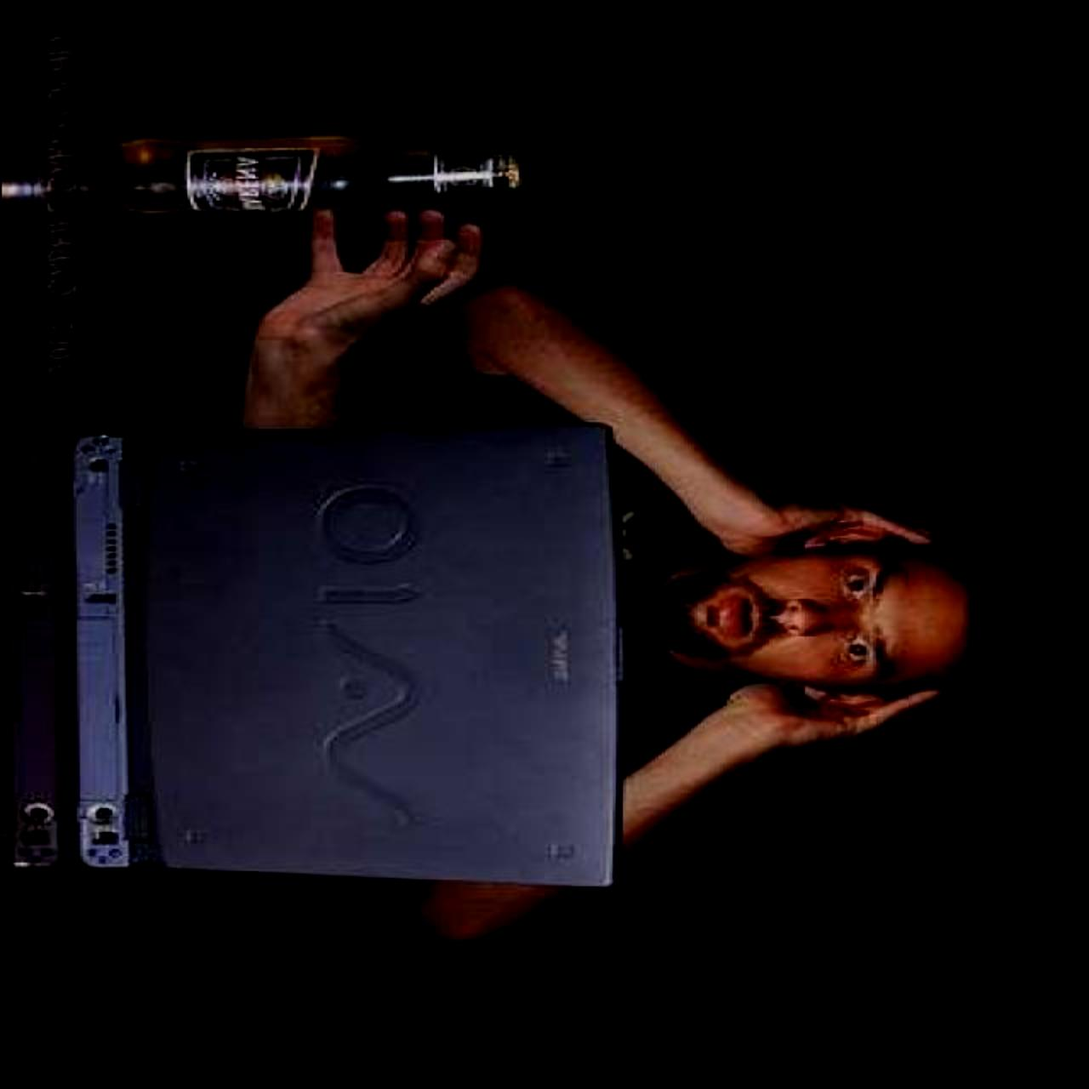laptop: (75, 408, 623, 905)
